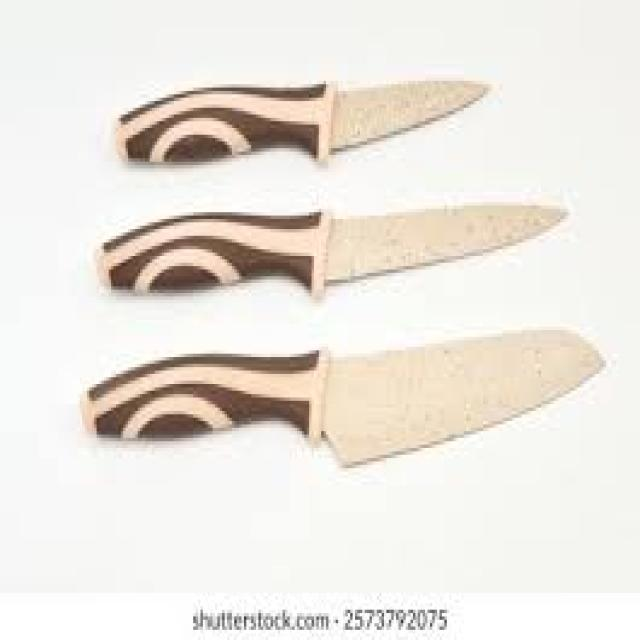Knife: (77, 324, 606, 468), (94, 199, 568, 296), (114, 74, 492, 165)
